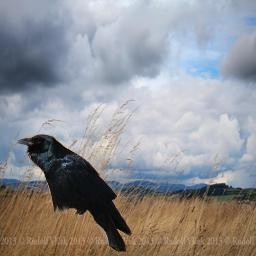Crow: (15, 134, 132, 253)
